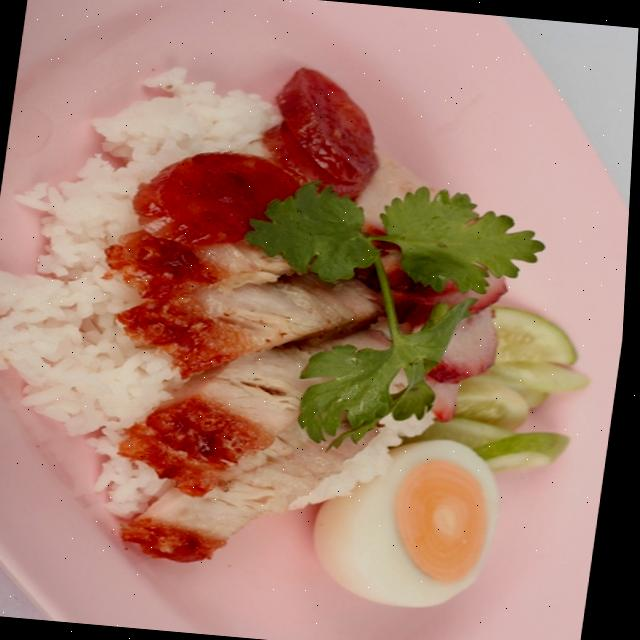米饭主食: (0, 35, 623, 625)
